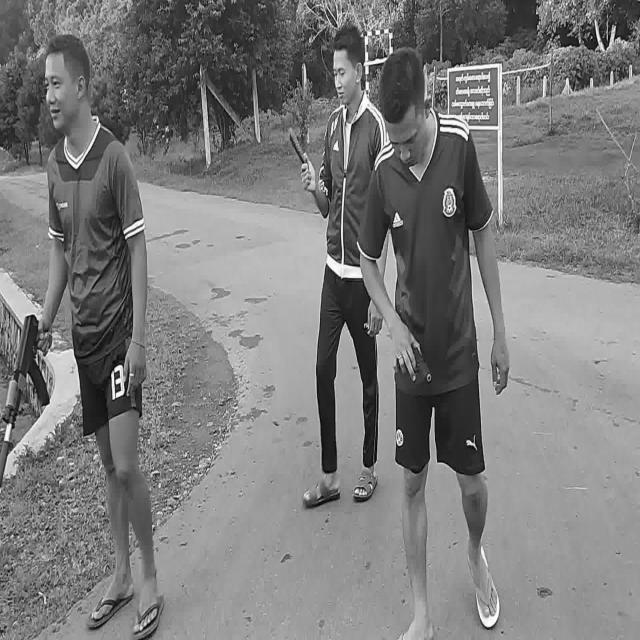gun: (1, 316, 49, 484), (397, 346, 431, 381)
